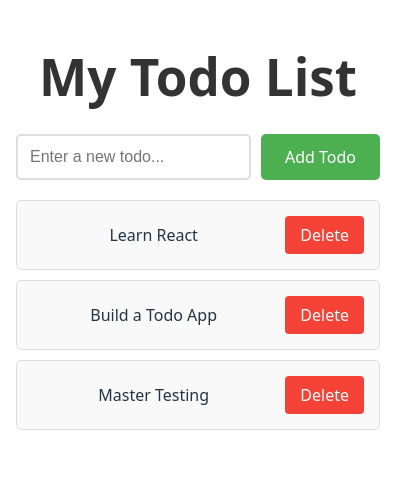
Test: TodoList Component › adds a new todo when form is submitted
Type in the input and submit
Type "New Todo Item" into the field with placeholder "Enter a new todo..." at (134, 157), box [16, 134, 251, 180]
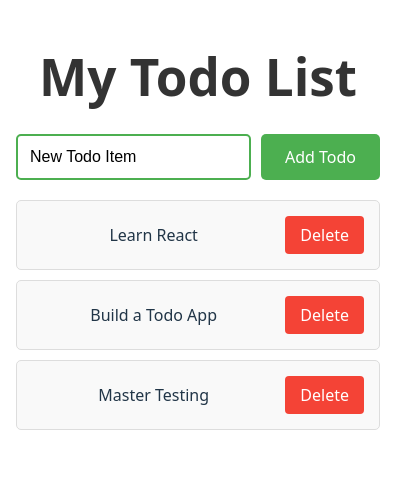
Click the button "Add Todo" at (320, 157), box [261, 134, 380, 180]
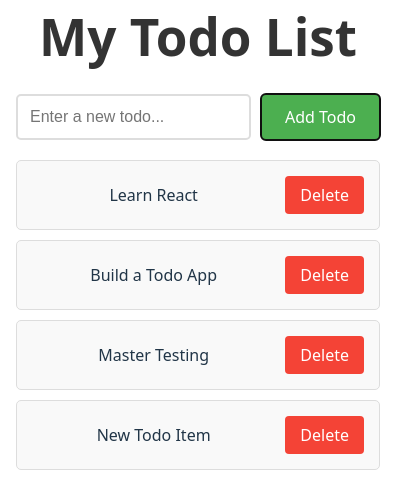
Expected: the text "New Todo Item" is shown, [97, 424, 211, 446]
